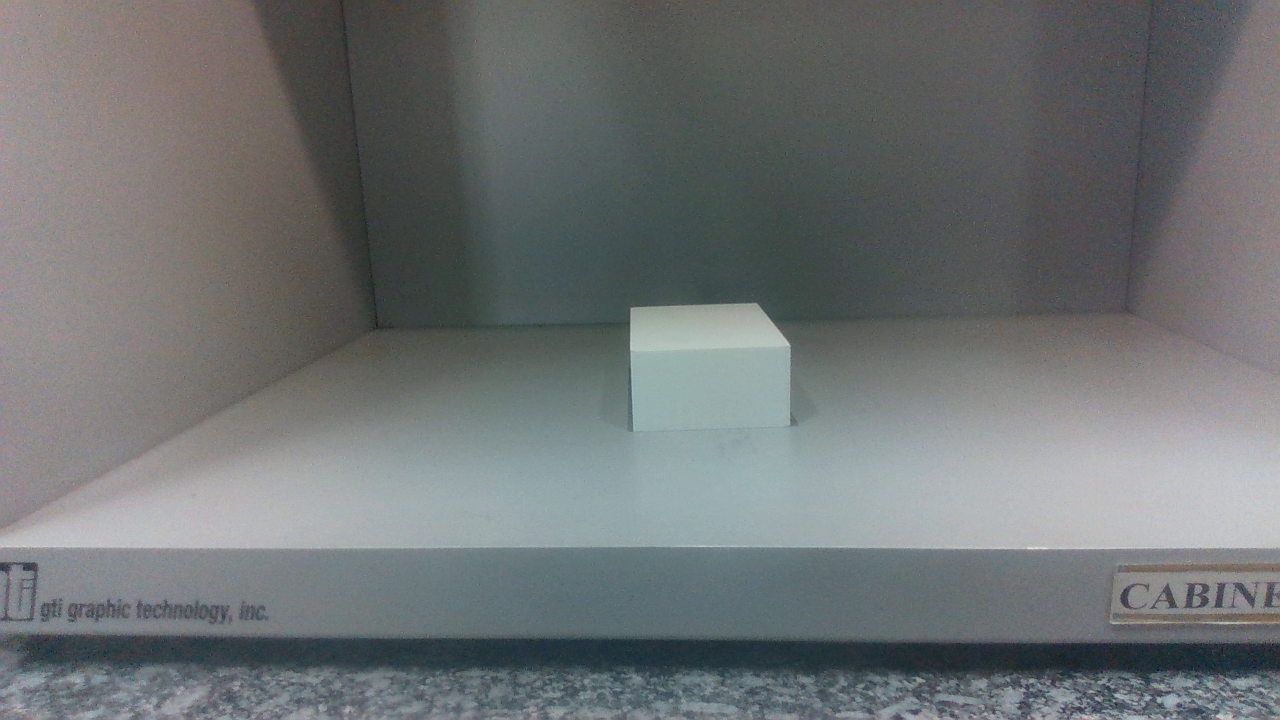Retangulo: (627, 302, 793, 431)
